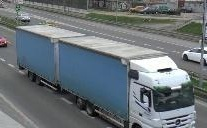car: (182, 46, 207, 65), (16, 12, 31, 24), (0, 35, 8, 47)
